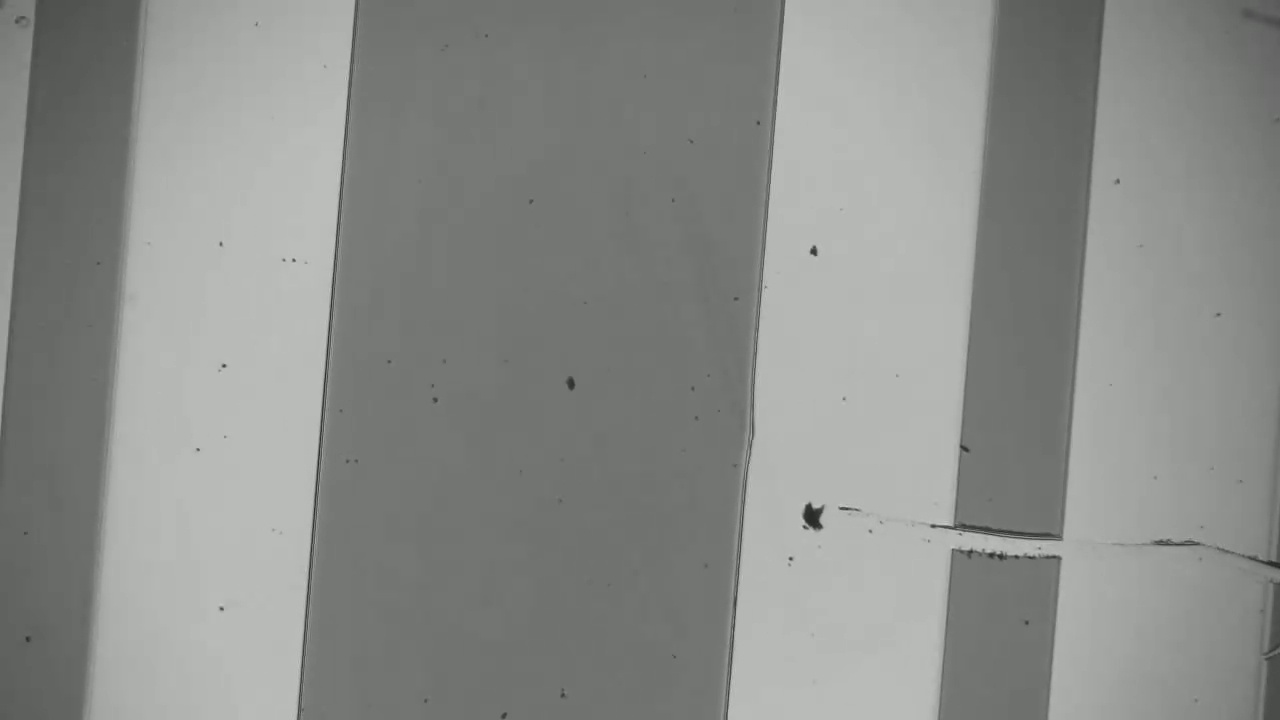Short_circuit: (922, 507, 1072, 583)
